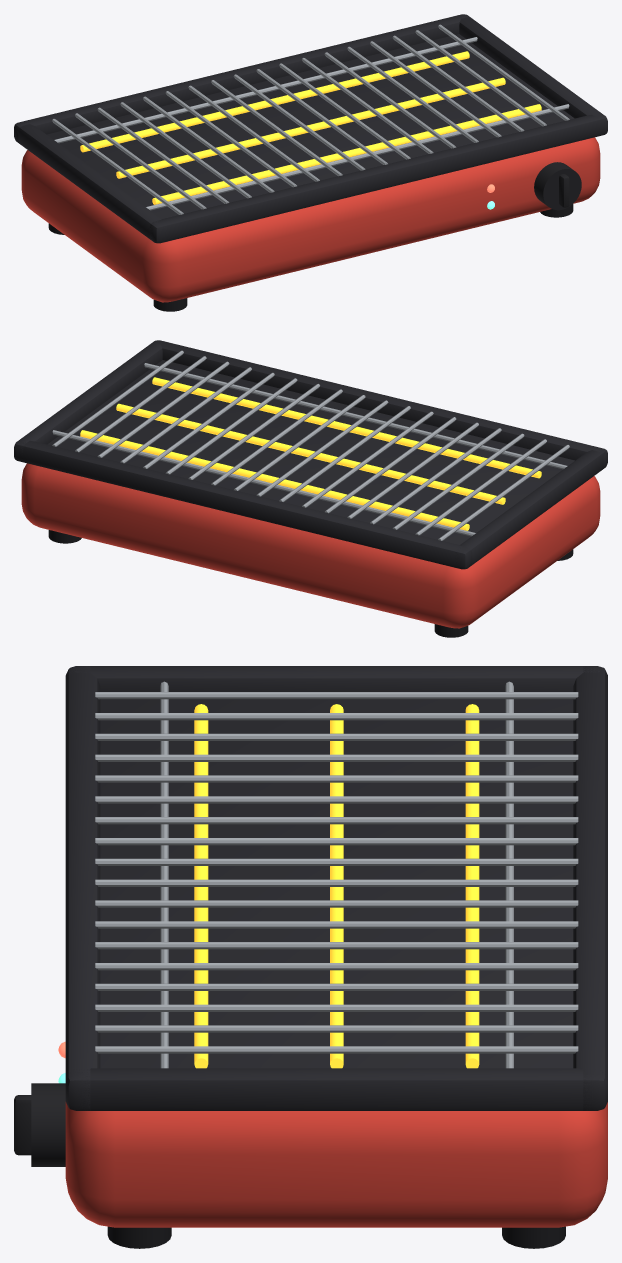
Rendered from Yakitori_Grill.fbx.
The picture shows the model from 3 angles, top to bottom: view 1: azimuth 30°, elevation 25°; view 2: azimuth 150°, elevation 25°; view 3: azimuth 270°, elevation 25°; orthographic projection. The views are drawn at different scales.
Parts seen in each view (by area): view 1: Yakitori_Grill; view 2: Yakitori_Grill; view 3: Yakitori_Grill.
Boxes of the visible parts, x1,y1,x2,y2 form: Yakitori_Grill: (14, 14, 607, 311); Yakitori_Grill: (14, 340, 607, 637); Yakitori_Grill: (14, 666, 607, 1248).
Size of the model in its own units: 0.4 by 0.0846 by 0.241.
